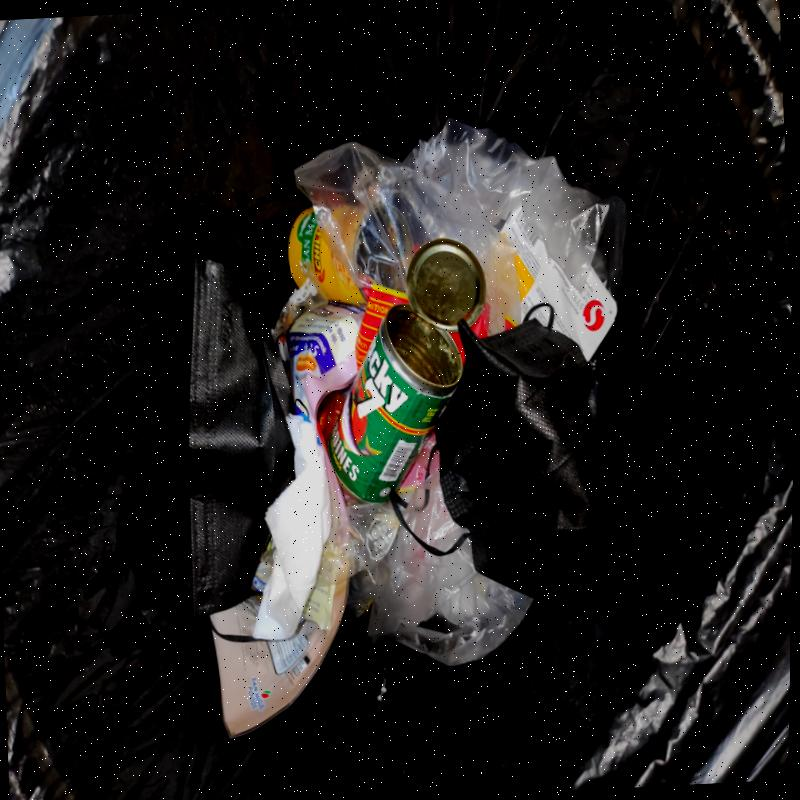aluminum: (326, 238, 485, 504), (185, 259, 294, 619), (285, 204, 366, 307)
facemask: (387, 304, 612, 603)
food wrapper: (500, 209, 616, 361)
paper: (252, 414, 331, 641)
plastic bag: (207, 282, 408, 737), (291, 118, 607, 337), (359, 456, 532, 667)
